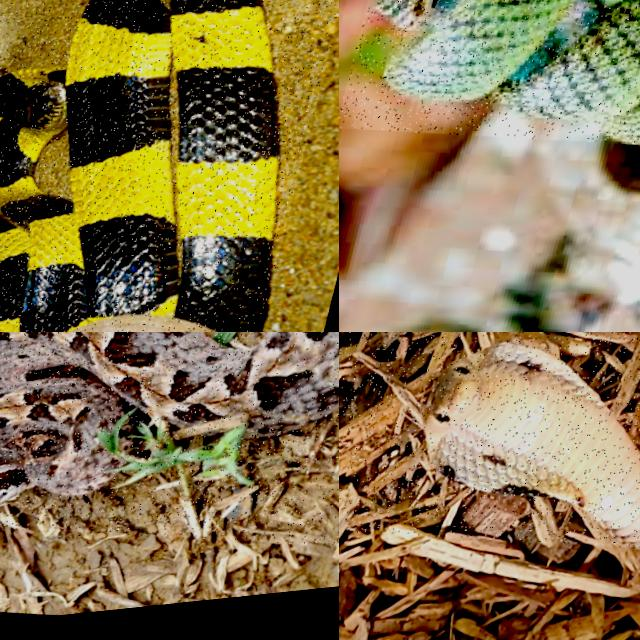Bungarus fasciatus: (0, 0, 278, 331)
Calloselasma rhodostoma: (0, 332, 338, 503)
Chrysopelea ornata: (387, 0, 639, 144)
Naja kaouthia: (425, 343, 639, 547)
